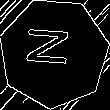N_E: (28, 31, 81, 75)
